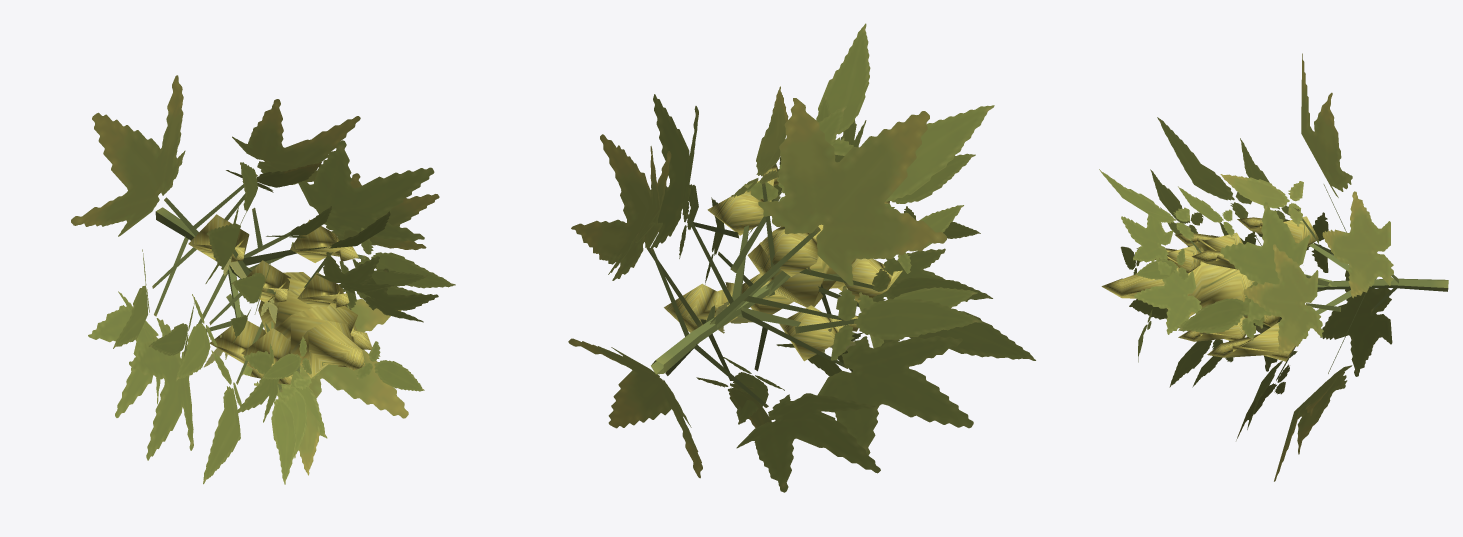
Rendered from p_gold_auto_ripe_c1_cards.obj.
3 views of the same model, side by side, from view 1: azimuth 30°, elevation 25°; view 2: azimuth 150°, elevation 25°; view 3: azimuth 270°, elevation 25° (orthographic). The views are drawn at different scales.
Size of the model in its own units: 1.18 by 1.29 by 0.963.
Materials: 1 (1 with a texture image).
